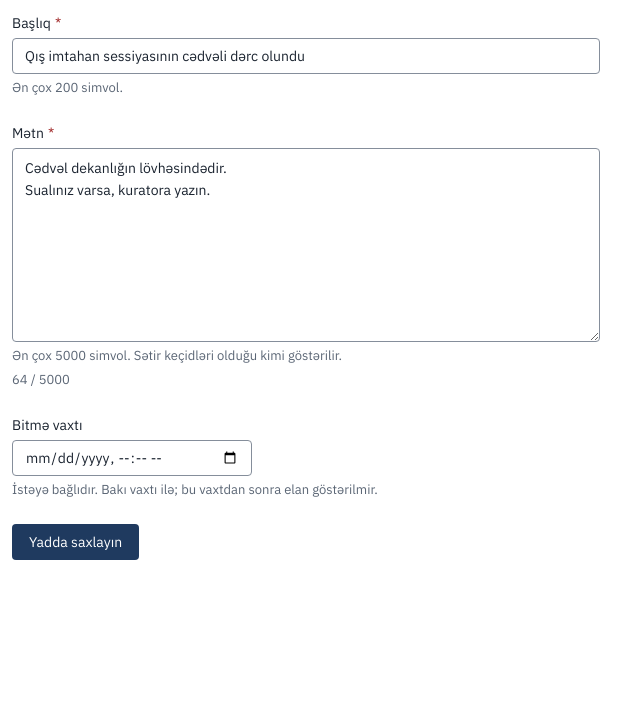
AnnouncementEditor › corrects text without offering to change the audience, and explains a conflict
Click the button "Yadda saxlayın".
click(76, 542)  # box left=12, top=524, right=139, bottom=560
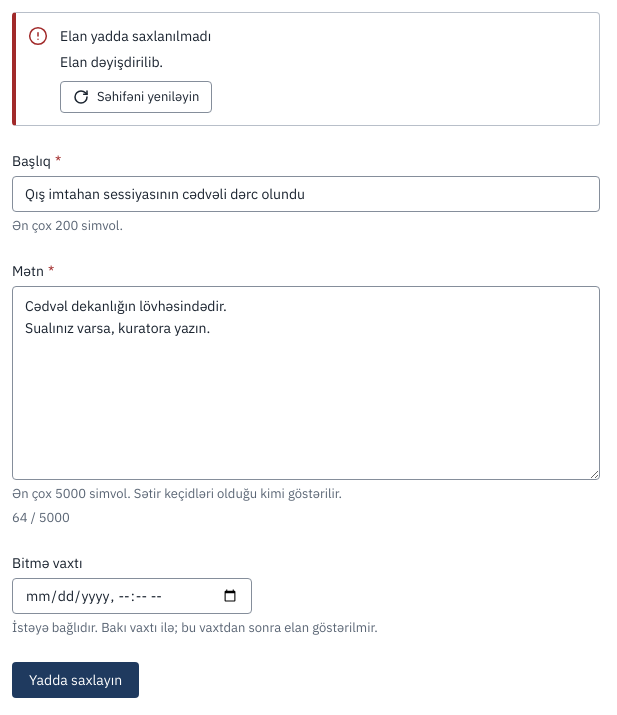
Now the text "Elan dəyişdirilib." is shown, box left=60, top=53, right=163, bottom=71
Now the button "Səhifəni yeniləyin" is shown, box left=60, top=81, right=212, bottom=113
